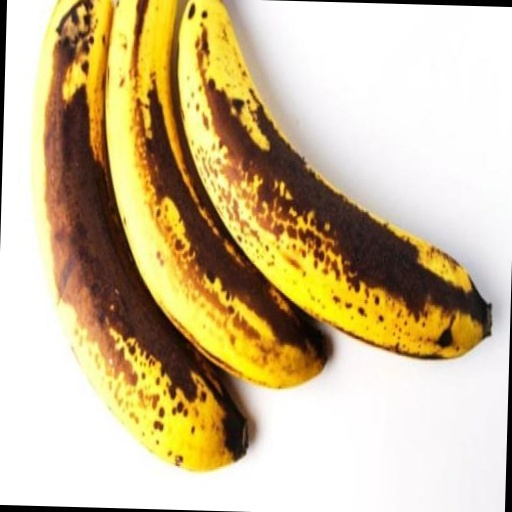fruit: (102, 0, 276, 15), (67, 0, 175, 4)
